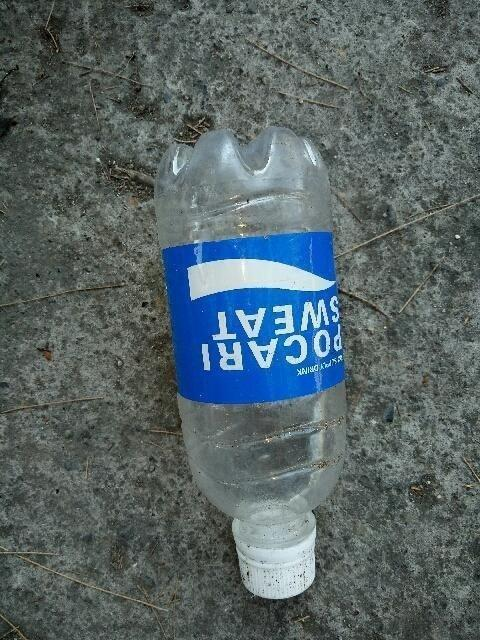bottle-plastic: (148, 120, 355, 605)
